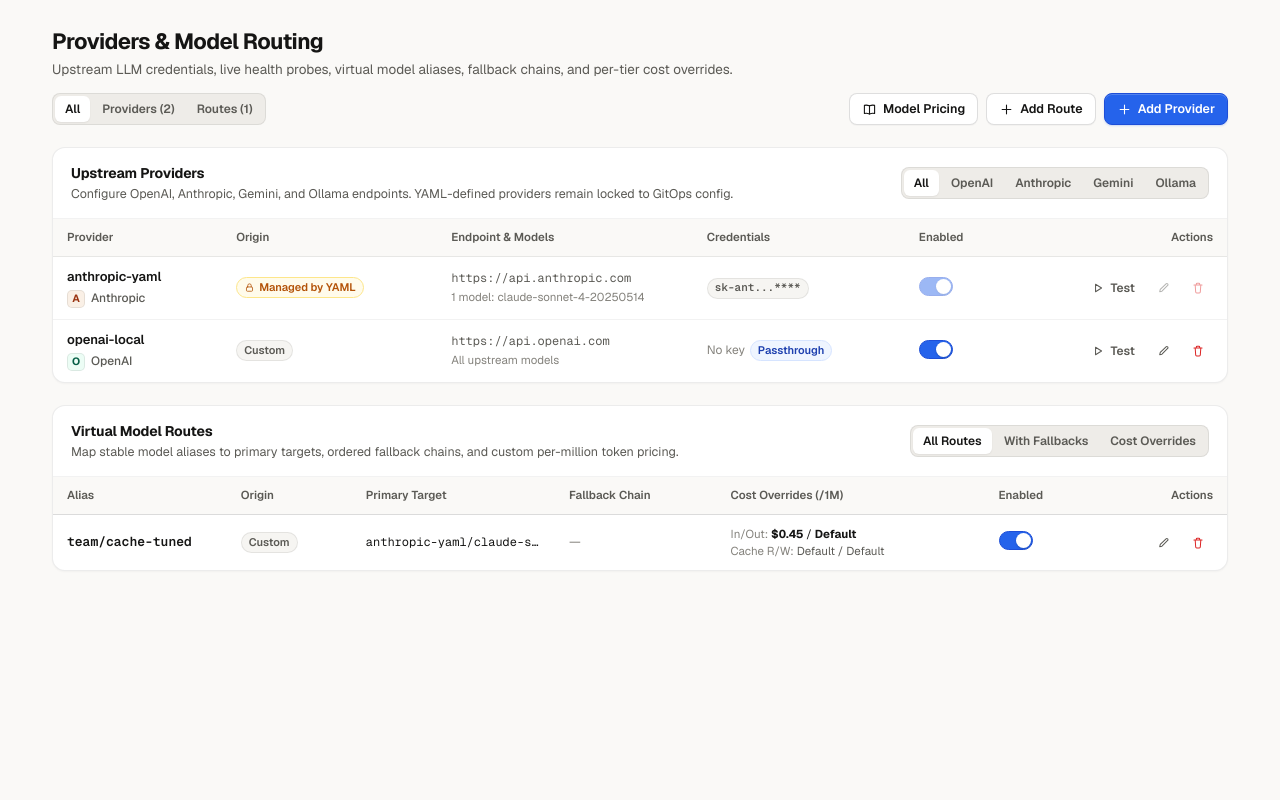
Aperture views, collapsed sidebar accordion, confirmations, and API alignment › locks YAML-managed providers, locks modal body scroll, and renders inline validation errors
Later steps or results of the test are not shown.
Expected: the text "anthropic-yaml" is shown, [67,268,161,285]
Expected: the text "Managed by YAML" is shown, [259,280,356,296]
Click the button "Add Route".
click(1041, 109)  # box [986,93,1096,125]
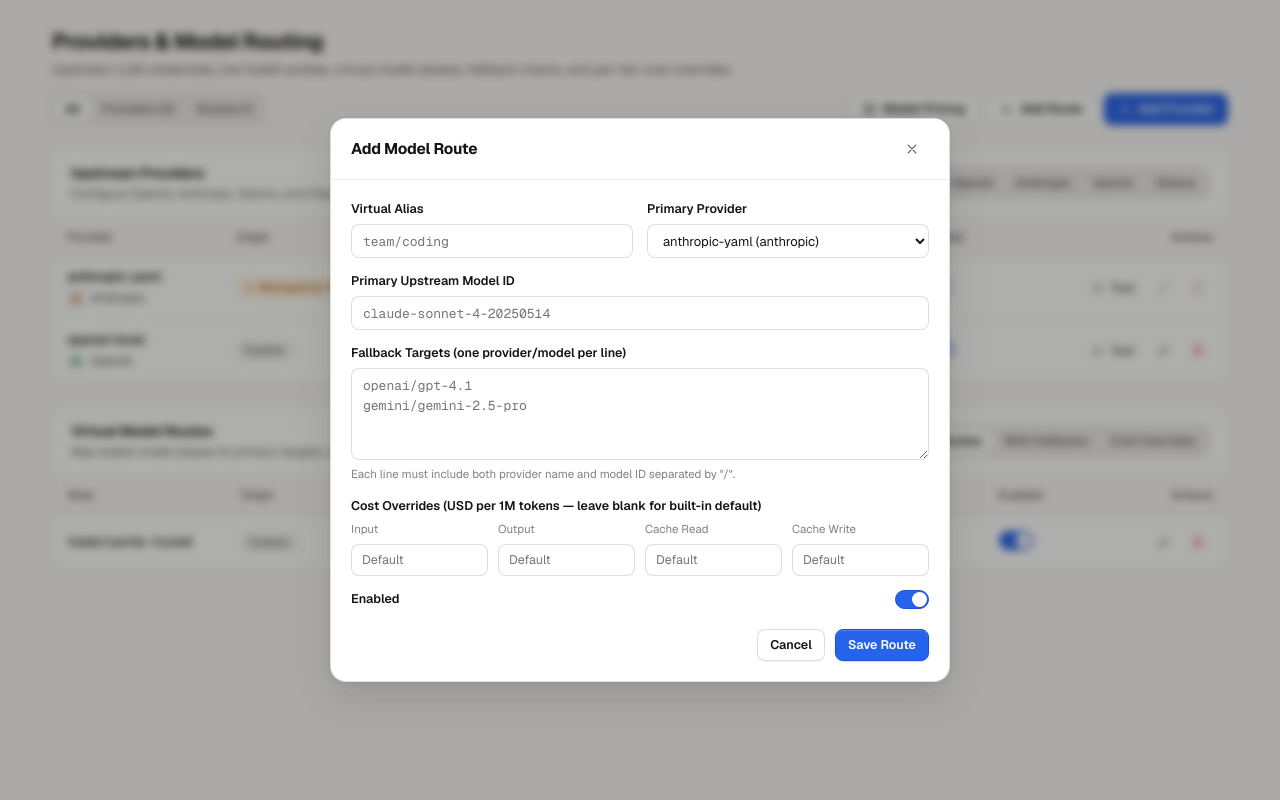
Type "team/fast" into the field labelled "Virtual Alias".
click(492, 241); type("team/fast")  # box [351,224,633,258]
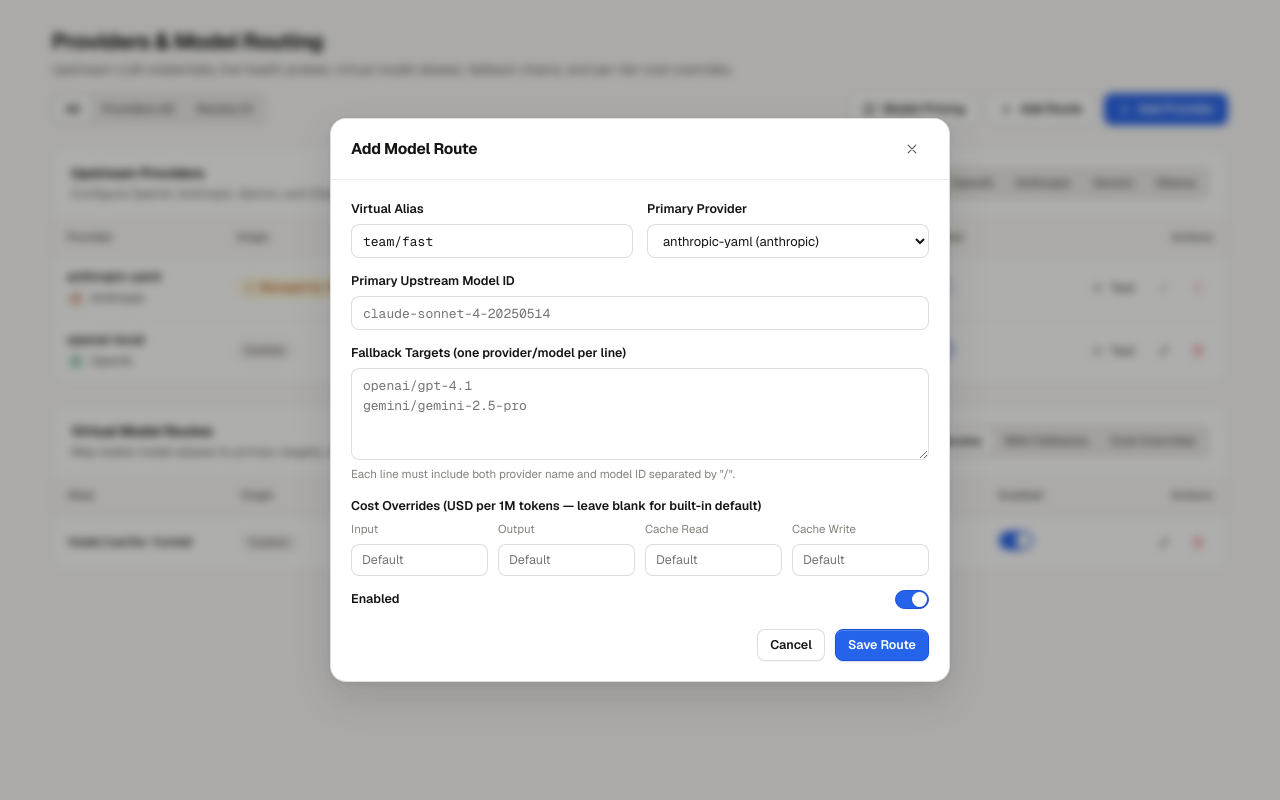
Type "gpt-4.1-mini" into the field labelled "Primary Upstream Model ID".
click(640, 313); type("gpt-4.1-mini")  # box [351,296,929,330]
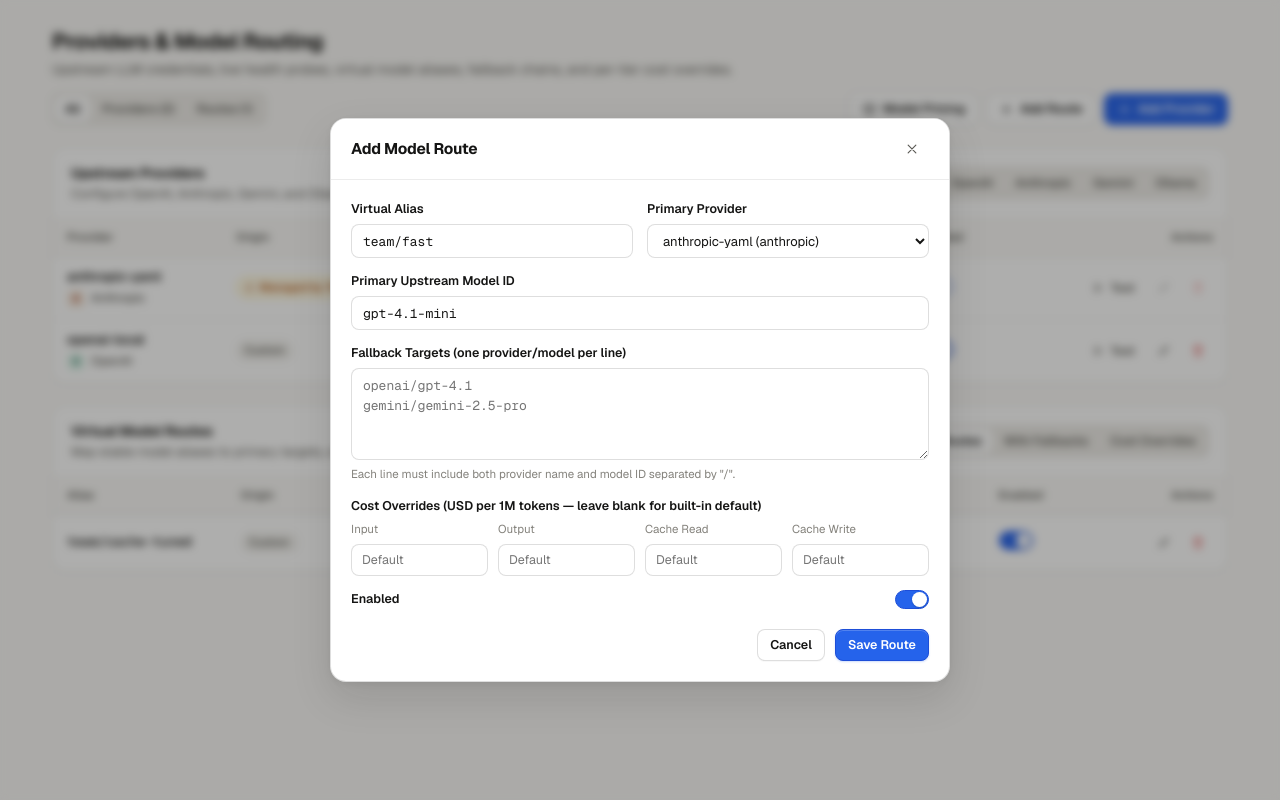
Type "gpt-4o-without-provider" into the text box labelled "Fallback Targets".
click(640, 414); type("gpt-4o-without-provider")  # box [351,368,929,460]
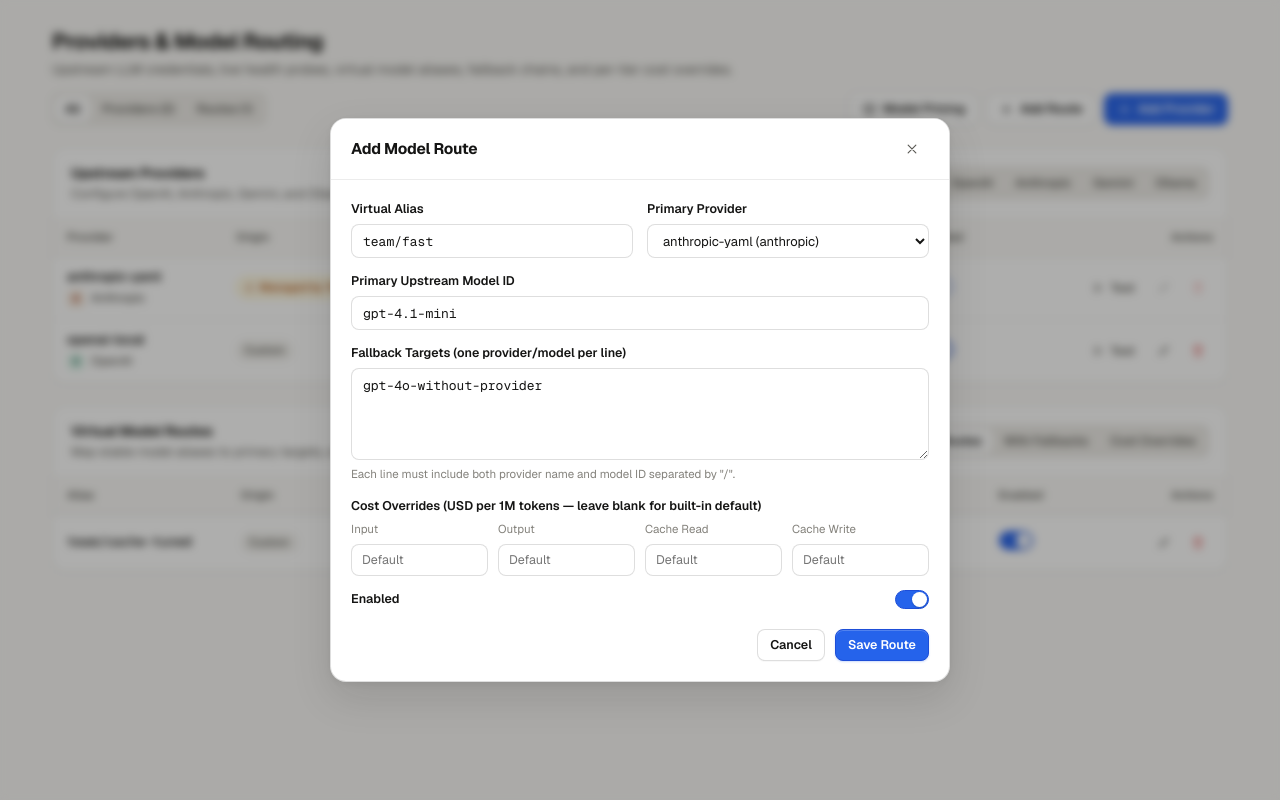
Click the button "Save Route".
click(882, 645)  # box [835,629,929,661]
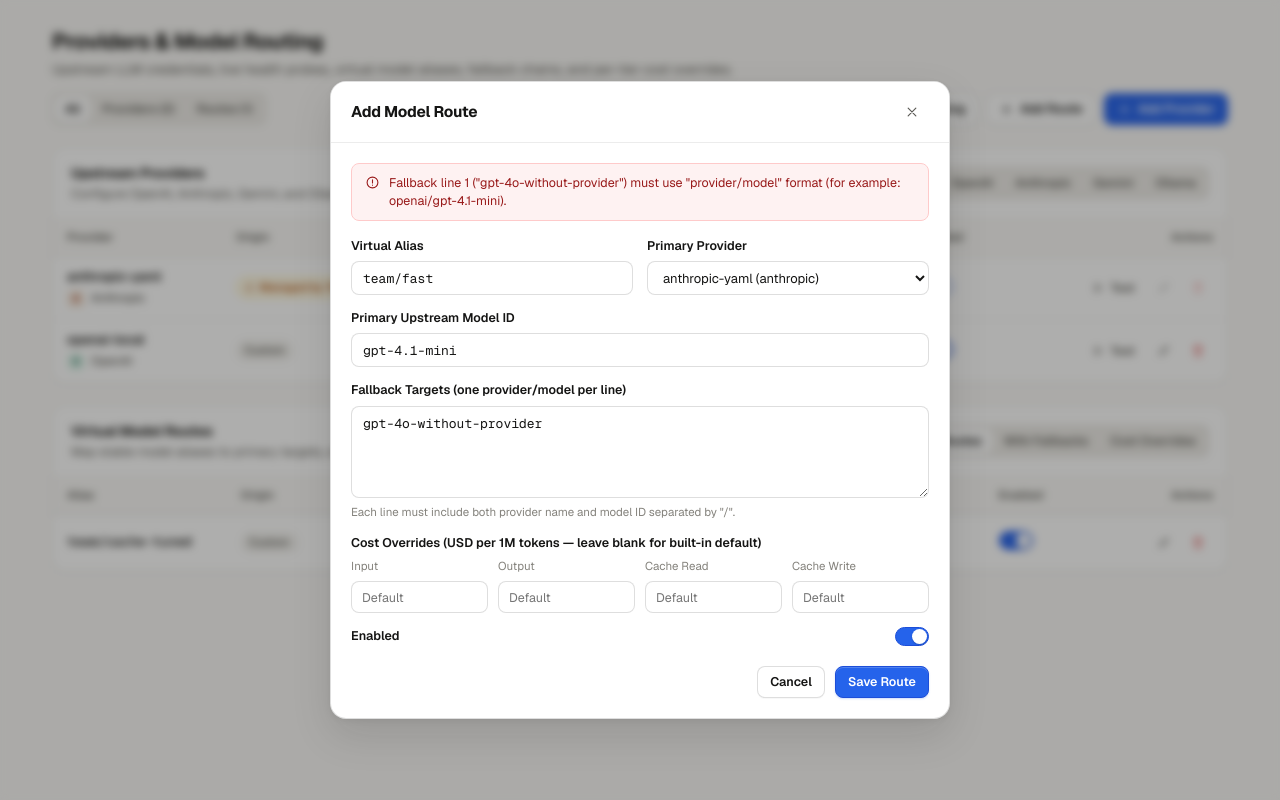
Result: the message shows "must use \"provider/model\" format" at [389,174,901,209]
